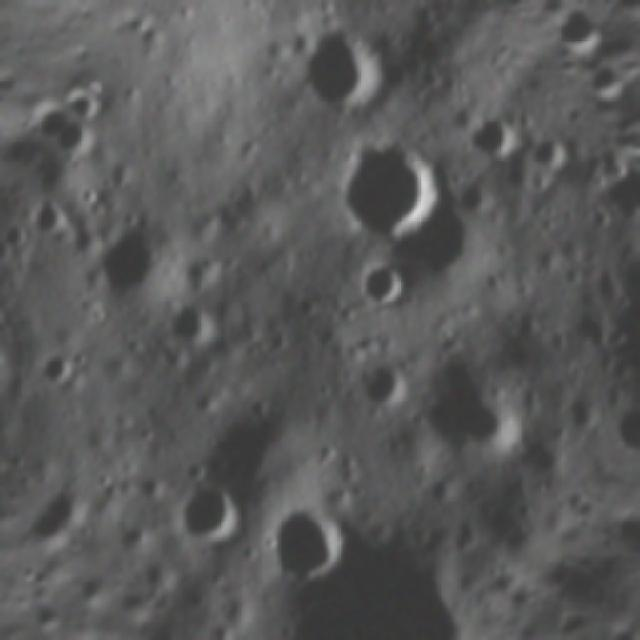crater: (248, 518, 494, 640), (401, 342, 545, 483), (328, 124, 468, 264), (282, 19, 402, 141), (257, 488, 357, 592), (76, 212, 175, 312), (165, 468, 261, 567), (459, 100, 536, 174), (160, 291, 234, 363), (345, 252, 417, 322), (351, 352, 418, 423), (589, 164, 640, 238), (30, 342, 90, 400), (42, 480, 100, 537), (22, 192, 78, 251), (0, 320, 28, 434), (177, 245, 235, 300), (49, 116, 105, 172), (521, 127, 577, 182), (600, 394, 640, 455), (0, 223, 29, 283), (76, 94, 109, 126), (626, 166, 640, 232), (0, 292, 18, 341), (263, 0, 319, 14), (563, 487, 589, 515), (501, 56, 528, 78)
